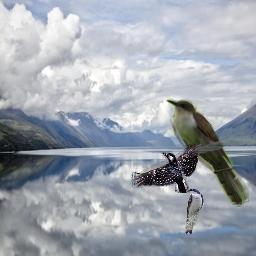Cuckoo: (165, 97, 249, 207)
Swallow: (184, 188, 204, 234)
Woodpecker: (131, 144, 198, 193)
